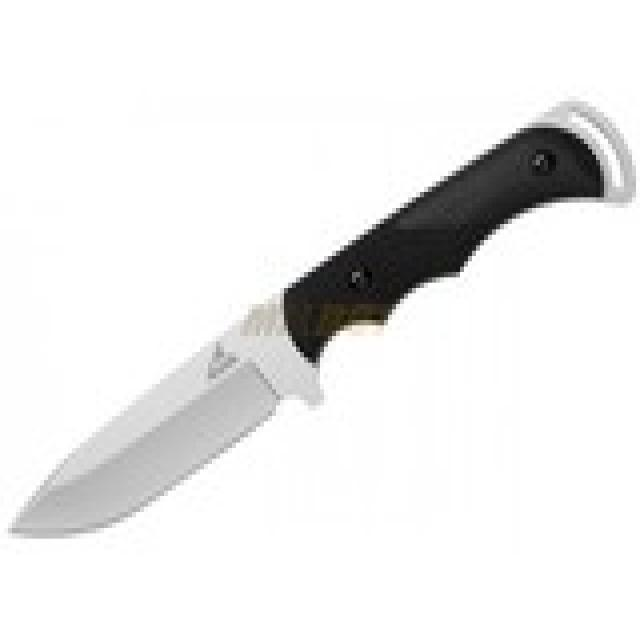Knife: (5, 85, 636, 552)
